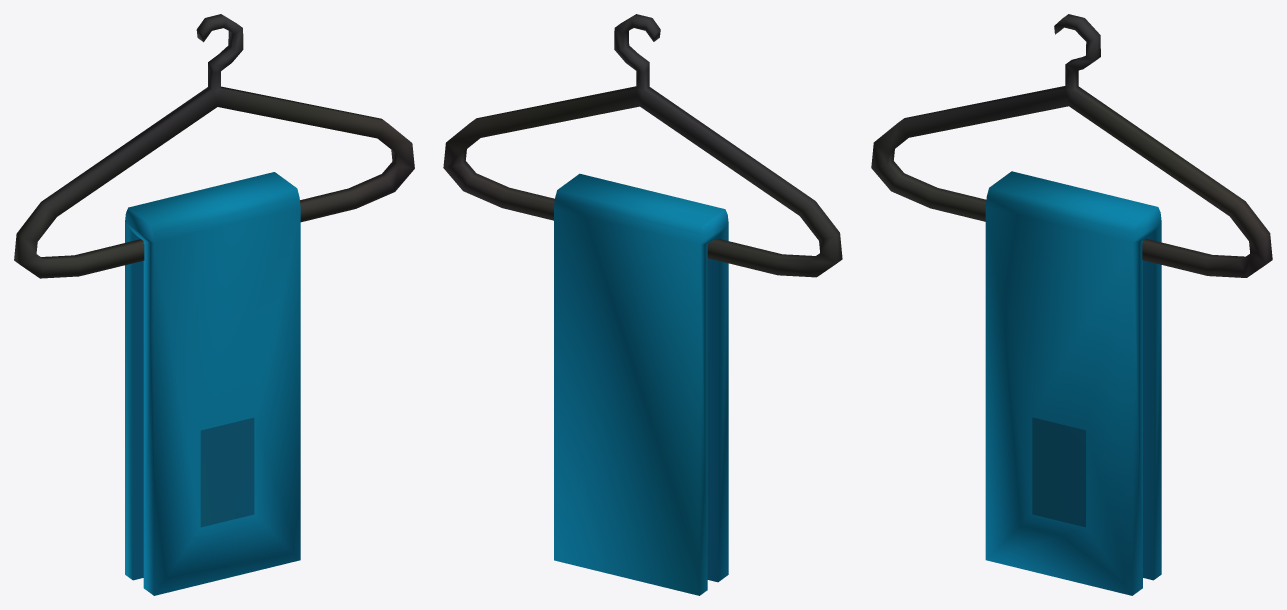
Rendered from ClothingHangerBlackPantsBlue.glb.
The picture shows the model from 3 angles, left to right: view 1: azimuth 30°, elevation 25°; view 2: azimuth 150°, elevation 25°; view 3: azimuth 330°, elevation 25°; orthographic projection.
Parts seen in each view (by area): view 1: ClothingHangerBlackPantsBlue; view 2: ClothingHangerBlackPantsBlue; view 3: ClothingHangerBlackPantsBlue.
Part boxes in pixels (left/top/right/bottom): ClothingHangerBlackPantsBlue: left=14, top=14, right=414, bottom=595; ClothingHangerBlackPantsBlue: left=443, top=14, right=842, bottom=595; ClothingHangerBlackPantsBlue: left=871, top=14, right=1272, bottom=595.
Size of the model in its own units: 0.6035 by 0.8036 by 0.0773.
Materials: 1 (1 with a texture image).
